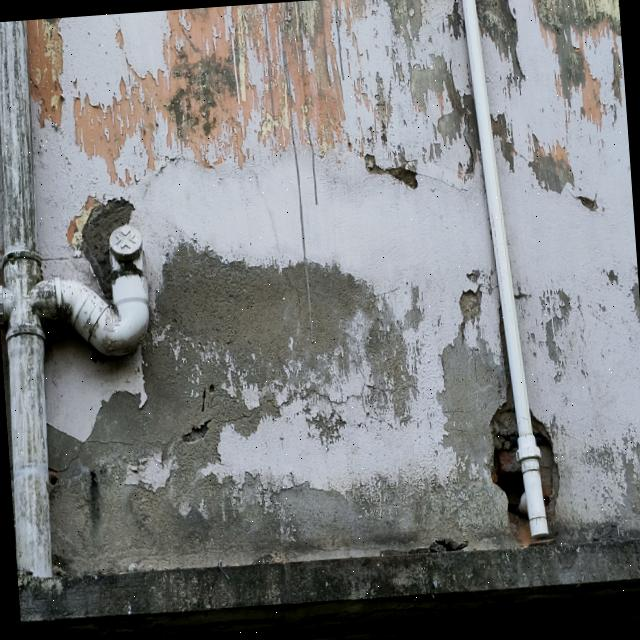Crack: (221, 351, 425, 427), (52, 393, 231, 475)
Incomplete Plaster Work: (48, 243, 509, 573)
Paint Peeling: (26, 0, 479, 185), (553, 415, 640, 544), (530, 0, 621, 121), (533, 275, 581, 390), (475, 0, 525, 97), (527, 134, 572, 191), (66, 192, 99, 251), (490, 97, 516, 170)
pollution -moisture induced blackening: (18, 538, 640, 622)
